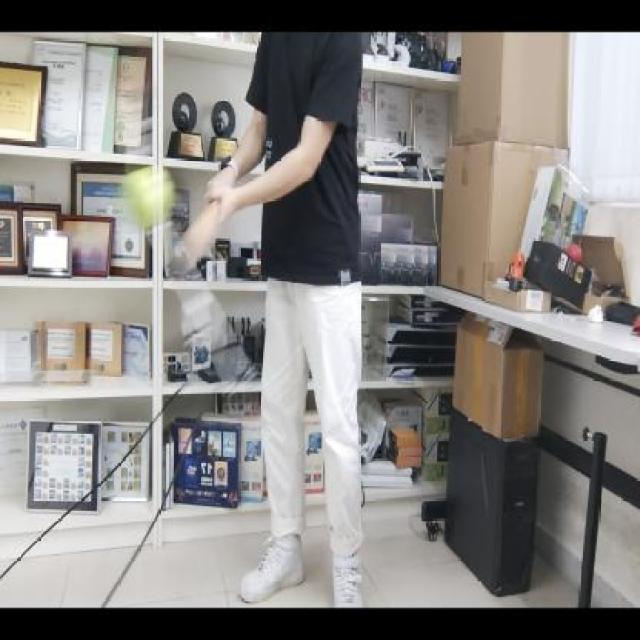baseball: (122, 163, 175, 229)
